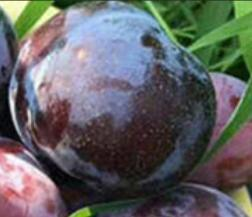plum_B: (8, 1, 216, 197)
